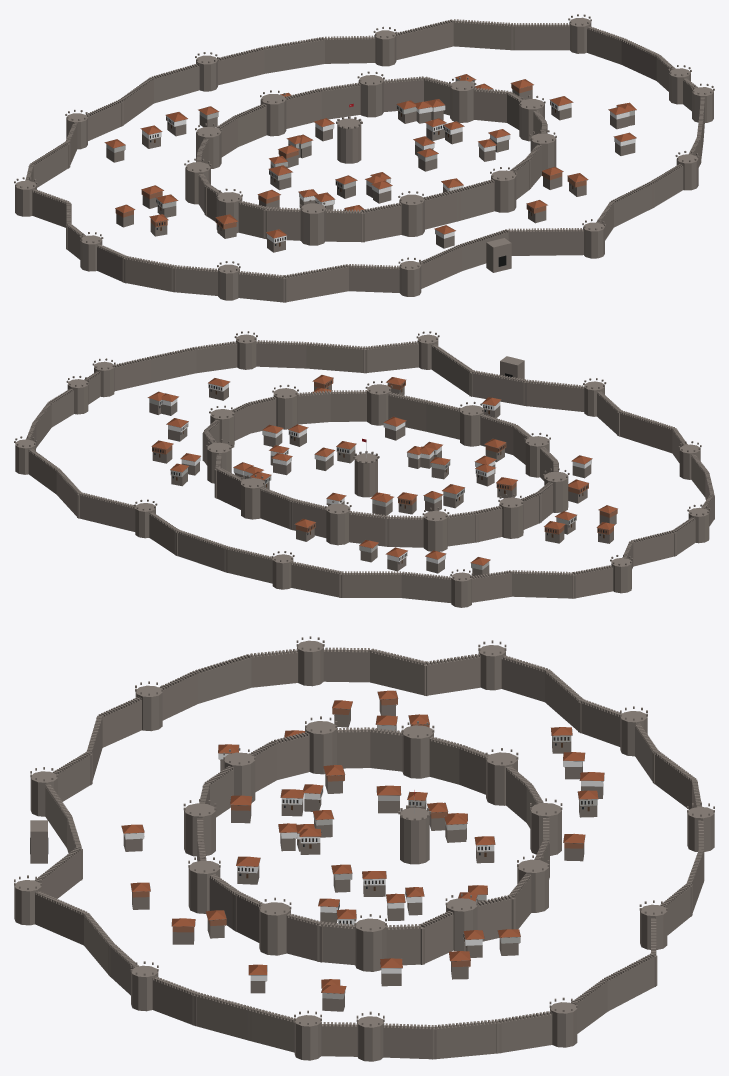
File: simge_ankara_kalesi.glb
3 views of the same model, one above another, from view 1: azimuth 30°, elevation 25°; view 2: azimuth 150°, elevation 25°; view 3: azimuth 270°, elevation 25° (orthographic). The views are drawn at different scales.
Parts seen in each view (by area): view 1: Simge_Ankara_Kalesi.001; view 2: Simge_Ankara_Kalesi.001; view 3: Simge_Ankara_Kalesi.001.
Part boxes in pixels (x1,y1,x2,y2): Simge_Ankara_Kalesi.001: (14,14,714,302); Simge_Ankara_Kalesi.001: (14,331,714,607); Simge_Ankara_Kalesi.001: (14,636,714,1061).
Bounding box in the file's own units: 415 × 37.22 × 317.
